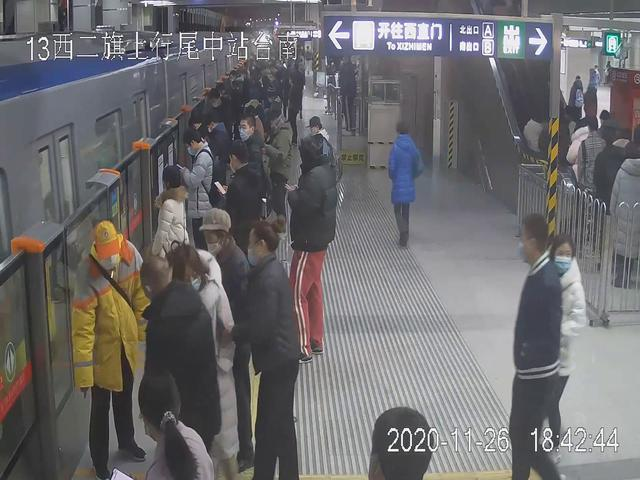person: (69, 218, 148, 479), (136, 254, 219, 480), (239, 223, 306, 480), (198, 207, 255, 469), (506, 215, 562, 480), (291, 139, 336, 367), (132, 369, 220, 480), (552, 236, 589, 463), (155, 165, 191, 311), (384, 120, 421, 248)
